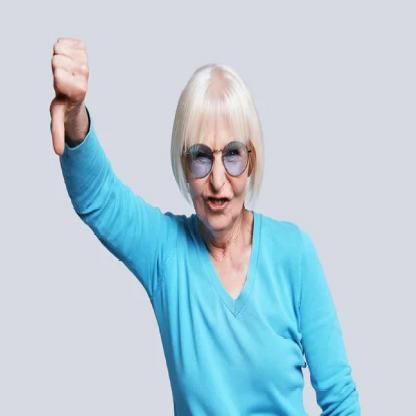thumb_down: (44, 32, 92, 158)
